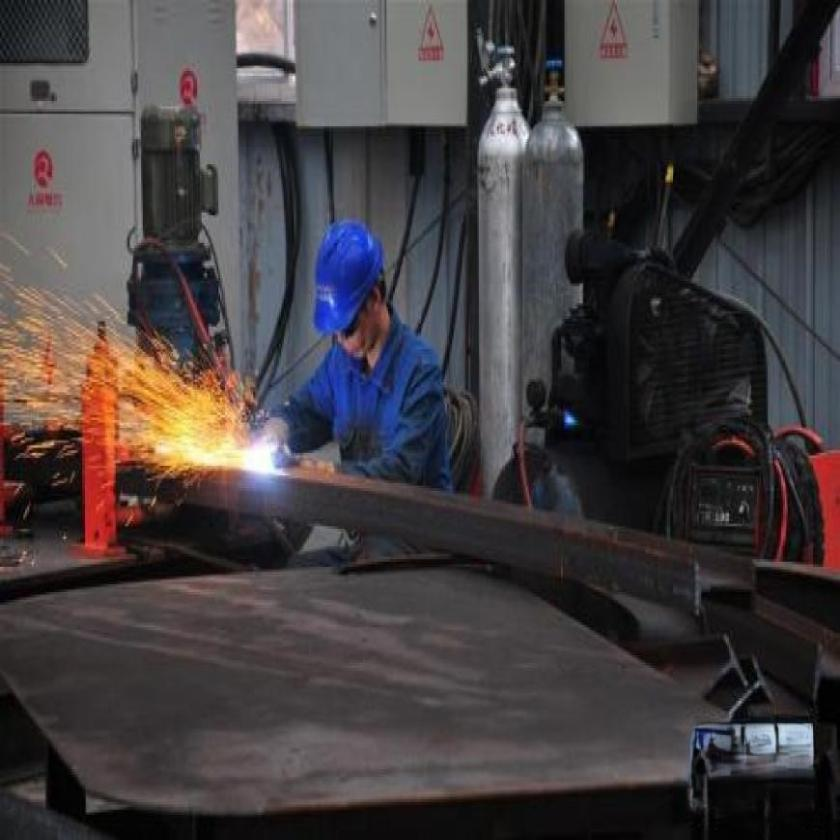Con_casco: (301, 210, 395, 362)
